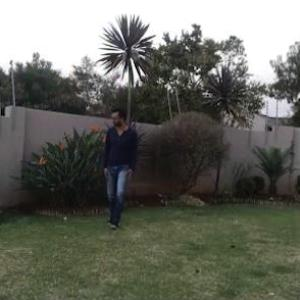follow: (97, 96, 142, 238)
